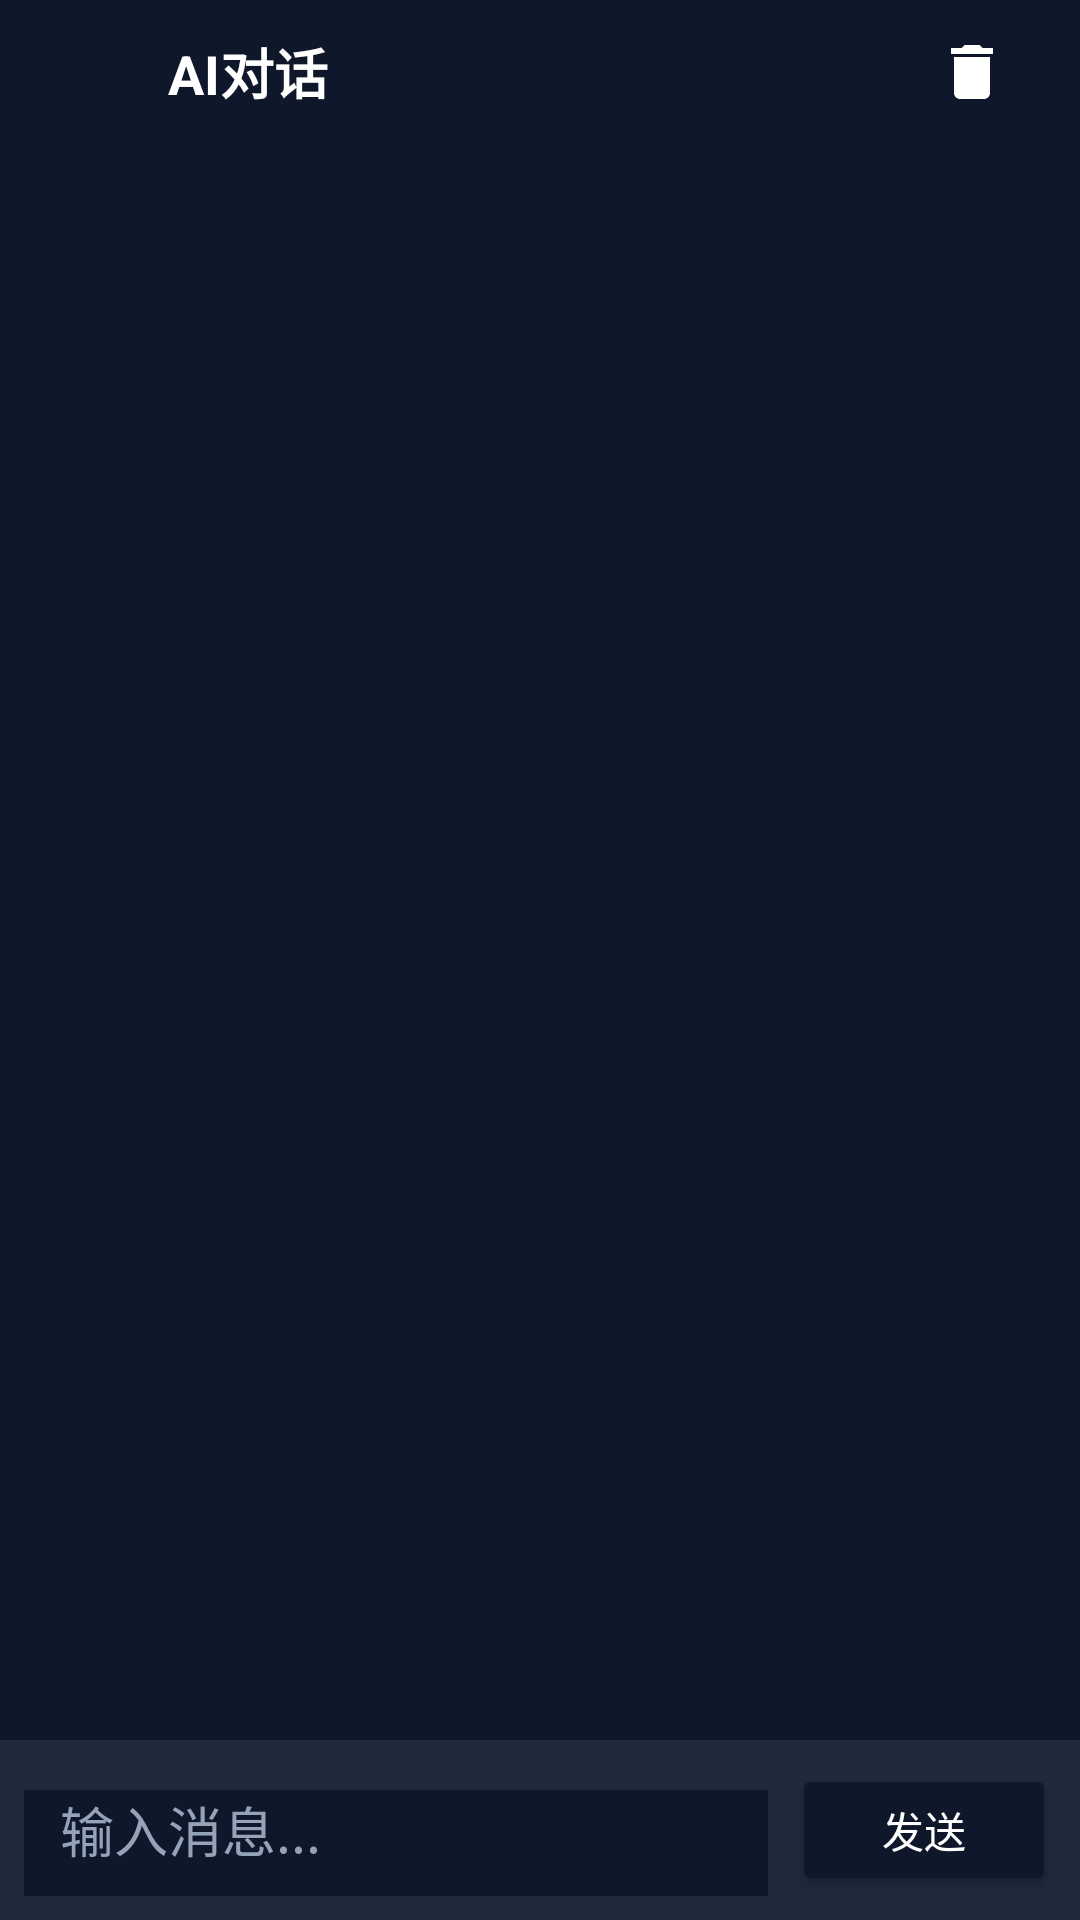

Named icons in this screenshot (1080px x 1920px) and their centers, (x,y):
清空: (972,72)
